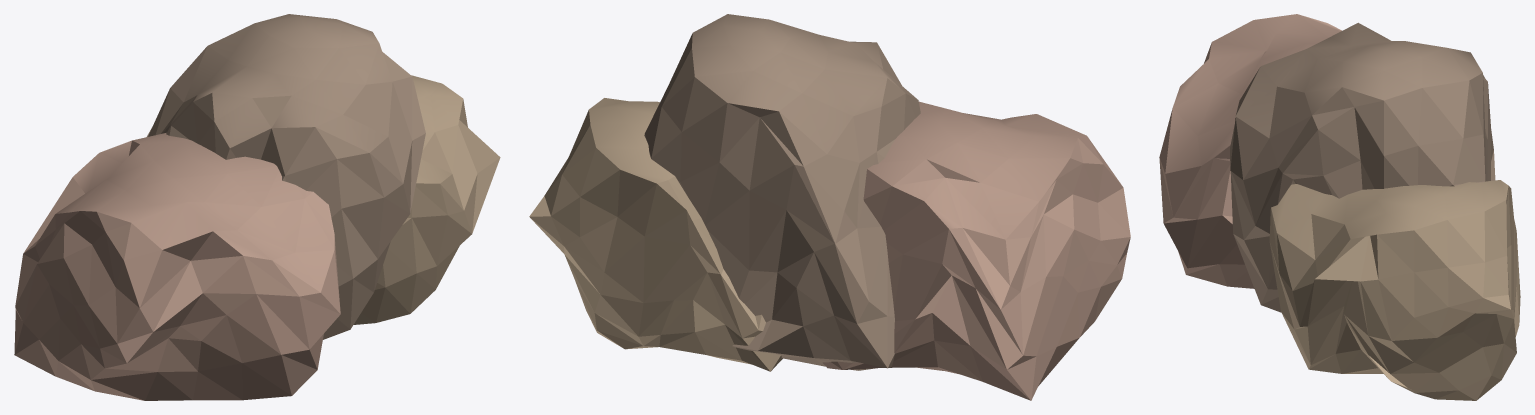
File: Granit_0.fbx
3 views of the same model, side by side, from view 1: azimuth 30°, elevation 25°; view 2: azimuth 150°, elevation 25°; view 3: azimuth 270°, elevation 25° (orthographic). The views are drawn at different scales.
Parts seen in each view (by area): view 1: Granit_0; view 2: Granit_0; view 3: Granit_0.
Part boxes in pixels (x1=…): Granit_0: x1=14, y1=14, x2=500, y2=400; Granit_0: x1=529, y1=14, x2=1130, y2=400; Granit_0: x1=1159, y1=14, x2=1520, y2=400.
Size of the model in its own units: 190 by 123 by 130.
